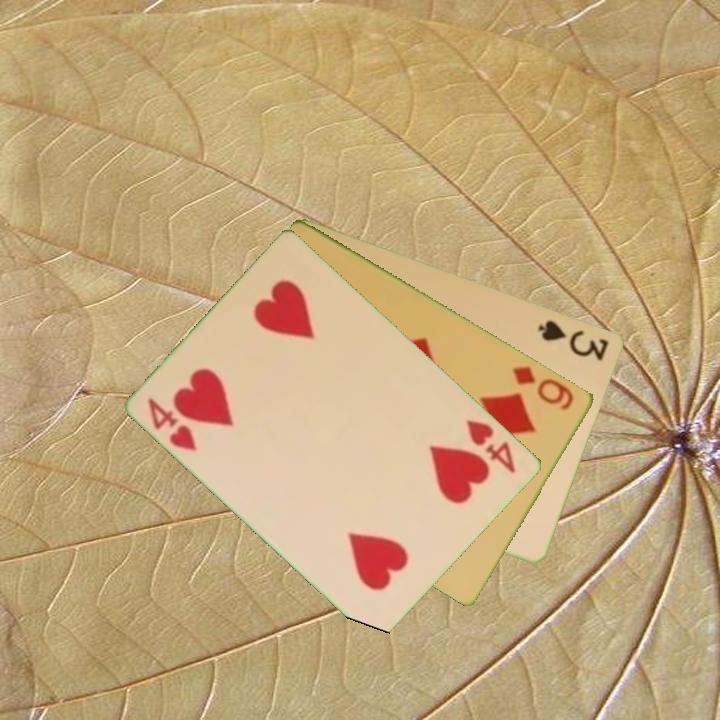3s: (535, 316, 612, 363)
4h: (462, 415, 520, 477), (145, 393, 201, 454)
6d: (509, 362, 577, 413)
